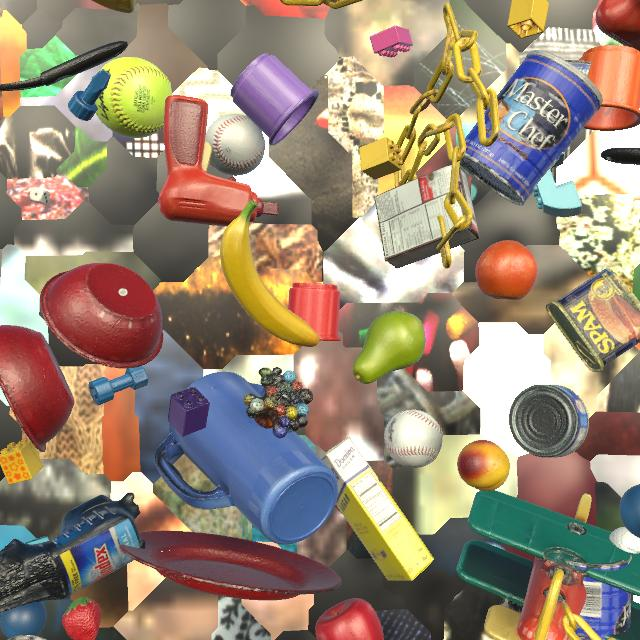ycb_002_master_chef_can: (460, 50, 603, 206), (559, 554, 632, 640)
ycb_004_sugar_box: (319, 437, 434, 581)
ycb_005_tomato_soup_can: (8, 635, 46, 640)
ycb_006_mustard_bottle: (91, 0, 138, 13)
ycb_007_tuna_fish_can: (509, 384, 589, 458), (565, 60, 592, 76)
ycb_008_pudding_box: (374, 165, 480, 268)
ycb_010_potted_meat_can: (546, 268, 640, 372)
ycb_011_banana: (220, 200, 319, 347)
ycb_012_strawberry: (62, 597, 101, 640)
ycb_013_apple: (315, 598, 384, 640)
ycb_015_peach: (457, 440, 510, 491)
ycb_016_pear: (352, 311, 426, 384)
ycb_017_orange: (476, 240, 538, 300)
